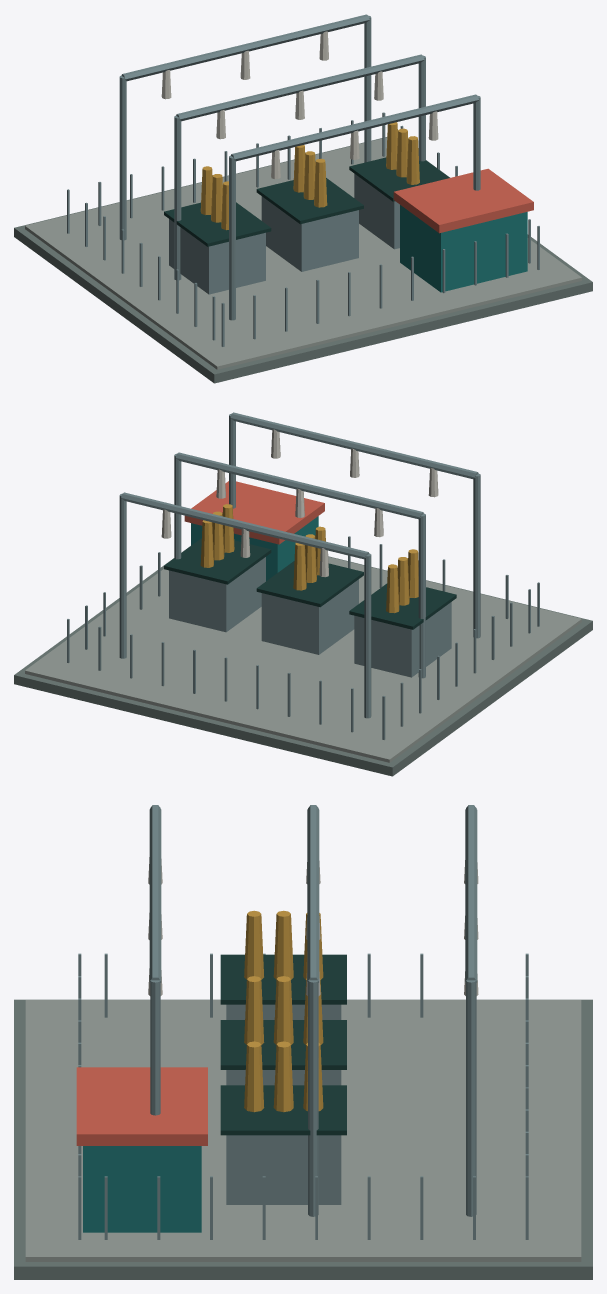
File: substation_lv3.glb
The picture shows the model from 3 angles, top to bottom: view 1: azimuth 30°, elevation 25°; view 2: azimuth 150°, elevation 25°; view 3: azimuth 270°, elevation 25°; orthographic projection. The views are drawn at different scales.
Parts seen in each view (by area): view 1: rough, metallic; view 2: rough, metallic; view 3: rough, metallic.
Part boxes in pixels (left/top/right/bottom): rough: left=14, top=31, right=592, bottom=383; metallic: left=67, top=14, right=539, bottom=346; rough: left=14, top=429, right=592, bottom=776; metallic: left=67, top=412, right=539, bottom=739; rough: left=14, top=857, right=592, bottom=1279; metallic: left=78, top=805, right=528, bottom=1239.
Bounding box in the file's own units: 9.6 × 4.28 × 8.8.
